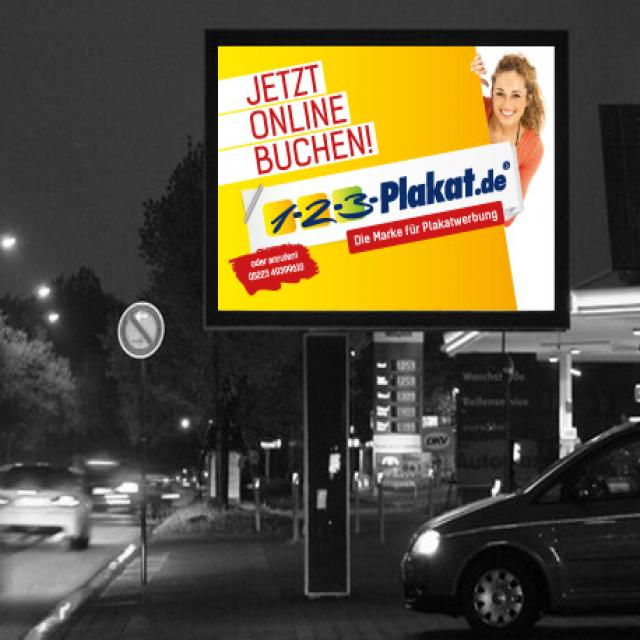Werbetafel frei: (199, 24, 576, 339)
